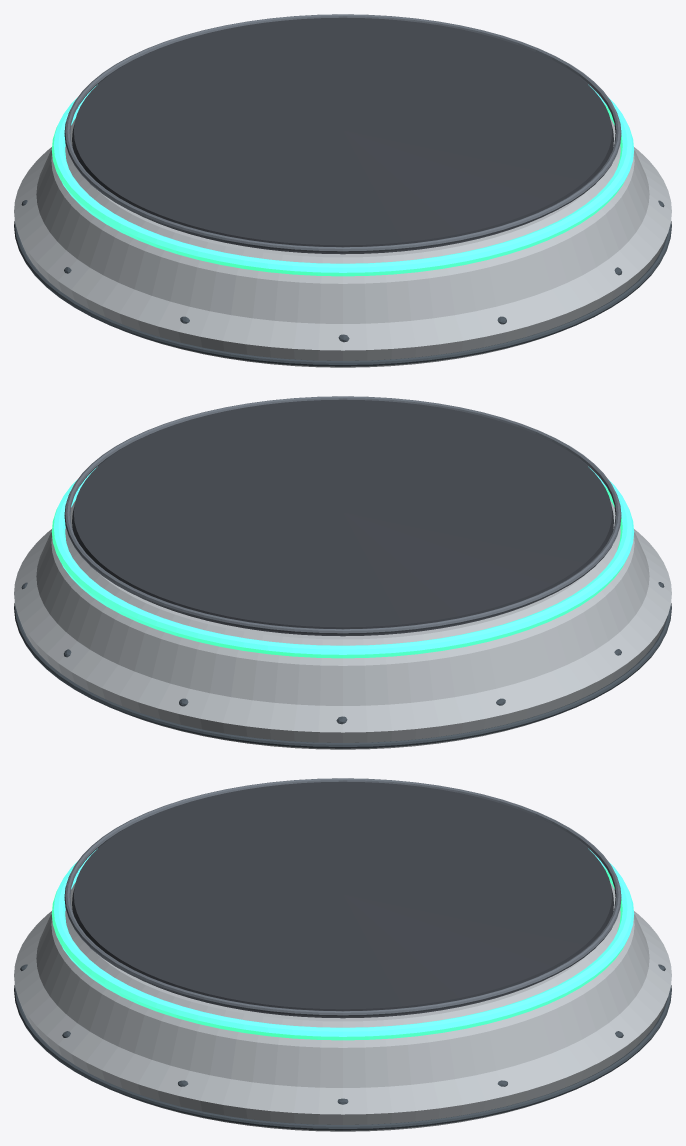
The model's file is podium_green.glb.
3 views of the same model, one above another, from view 1: azimuth 30°, elevation 25°; view 2: azimuth 150°, elevation 25°; view 3: azimuth 270°, elevation 25° (orthographic).
Parts seen in each view (by area): view 1: PODIUM_charcoal, PODIUM_brushed_silver, PODIUM_green, PODIUM_gunmetal, PODIUM_dark_steel; view 2: PODIUM_charcoal, PODIUM_brushed_silver, PODIUM_green, PODIUM_gunmetal, PODIUM_dark_steel; view 3: PODIUM_charcoal, PODIUM_brushed_silver, PODIUM_green, PODIUM_gunmetal, PODIUM_dark_steel.
Part boxes in pixels (x1,y1,x2,y2): PODIUM_charcoal: (72, 17, 613, 254); PODIUM_brushed_silver: (14, 118, 671, 367); PODIUM_green: (51, 84, 634, 276); PODIUM_gunmetal: (64, 14, 621, 252); PODIUM_dark_steel: (14, 200, 671, 366); PODIUM_charcoal: (72, 399, 613, 636); PODIUM_brushed_silver: (14, 500, 671, 749); PODIUM_green: (51, 466, 634, 658); PODIUM_gunmetal: (64, 396, 621, 634); PODIUM_dark_steel: (14, 582, 671, 748); PODIUM_charcoal: (72, 781, 613, 1018); PODIUM_brushed_silver: (14, 882, 671, 1131); PODIUM_green: (51, 848, 634, 1040); PODIUM_gunmetal: (64, 778, 621, 1016); PODIUM_dark_steel: (14, 964, 671, 1130).
Bounding box in the file's own units: 1.76 × 0.32 × 1.76.
